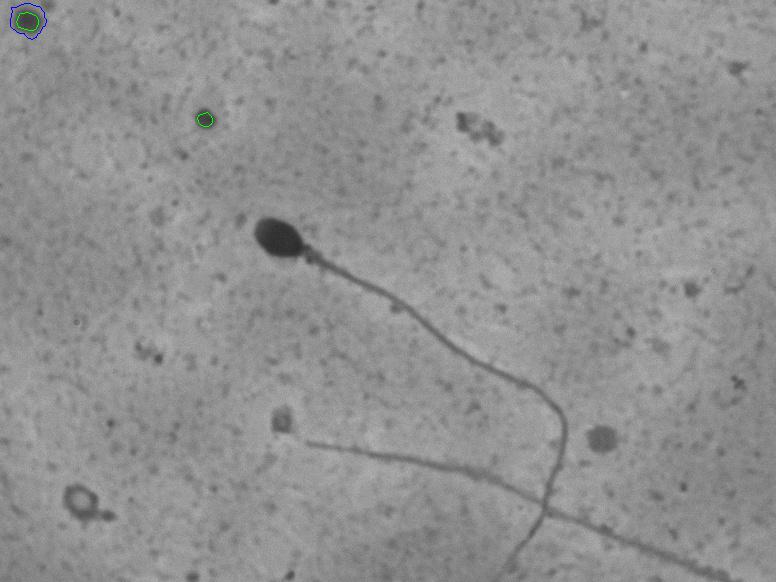Normal: (240, 200, 583, 569)
